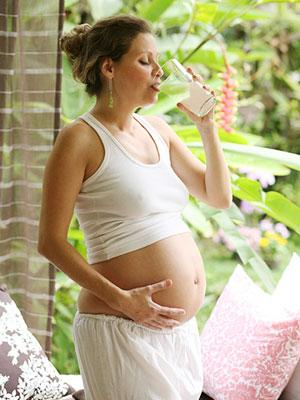person: (35, 13, 236, 400)
